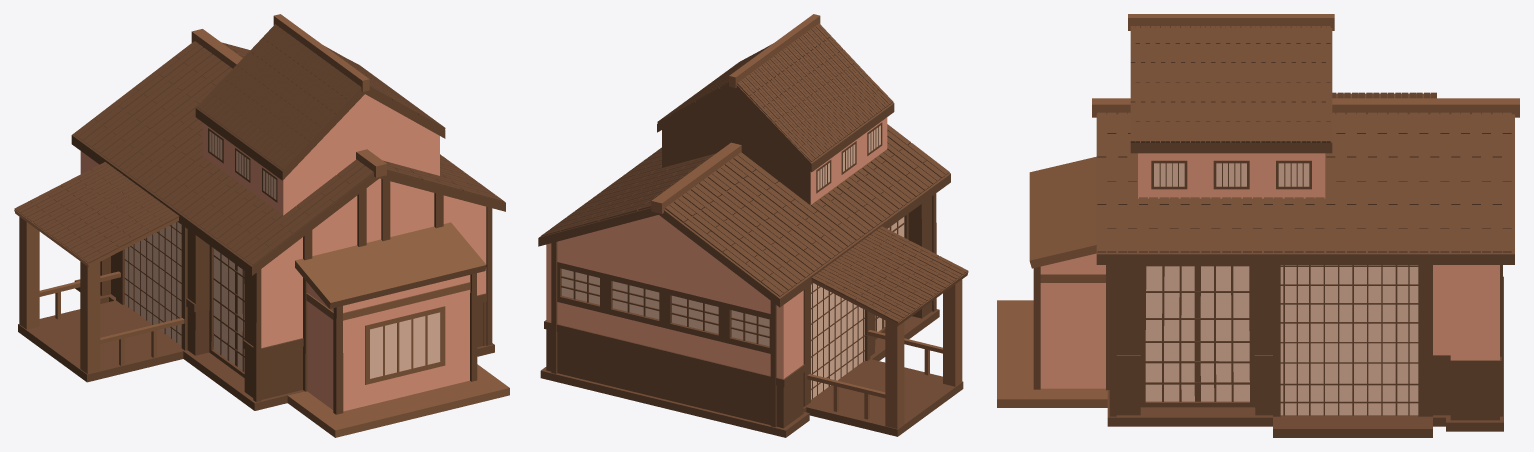
The model's file is House_2.fbx.
3 renders of one model, left to right at view 1: azimuth 30°, elevation 25°; view 2: azimuth 150°, elevation 25°; view 3: azimuth 270°, elevation 25°, orthographic. The views are drawn at different scales.
Visible parts, largest first — view 1: House_2; view 2: House_2; view 3: House_2.
Part boxes in pixels (<box>): House_2: <box>14,14,509,437</box>; House_2: <box>538,14,968,437</box>; House_2: <box>997,14,1519,437</box>.
Bounding box in the file's own units: 450 × 355 × 489.
